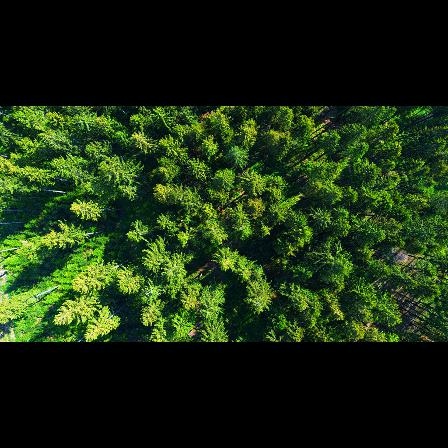Dead: (384, 246, 411, 262)
